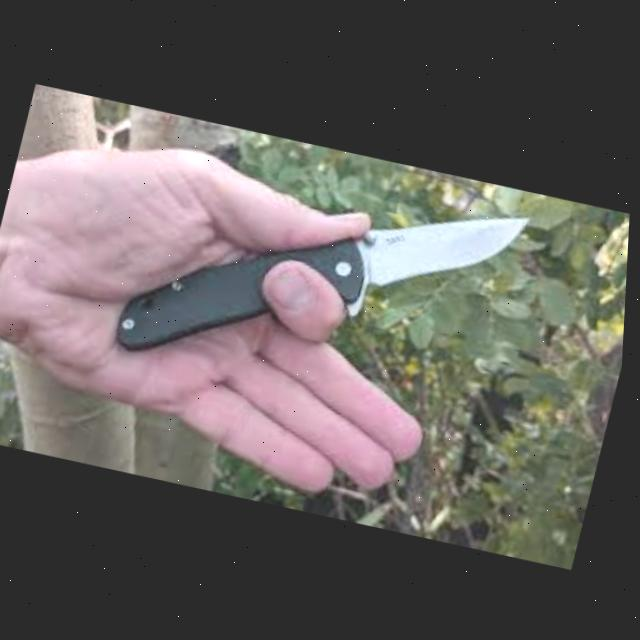knife: (0, 86, 435, 496), (114, 136, 538, 427)
